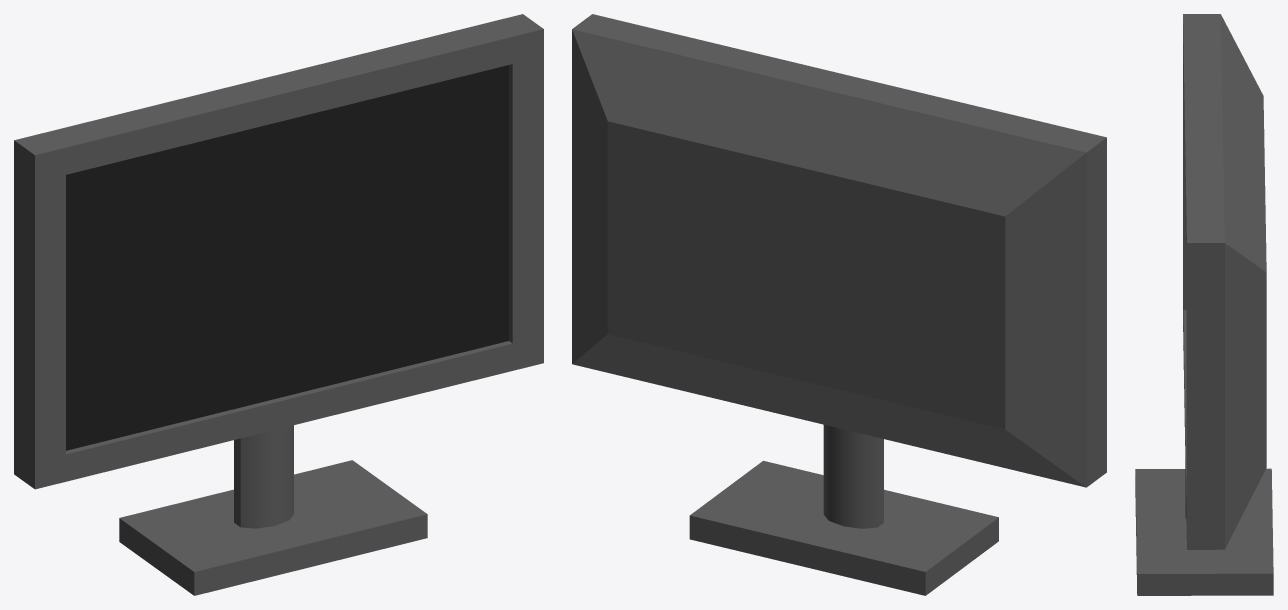
Rendered from Monitor.fbx.
The picture shows the model from 3 angles, left to right: view 1: azimuth 30°, elevation 25°; view 2: azimuth 150°, elevation 25°; view 3: azimuth 270°, elevation 25°; orthographic projection. The views are drawn at different scales.
Visible parts, largest first — view 1: Monitor; view 2: Monitor; view 3: Monitor.
Boxes of the visible parts, box(x1,y1,x2,y2) form: Monitor: box(14, 14, 543, 595); Monitor: box(572, 14, 1106, 595); Monitor: box(1135, 14, 1273, 595).
Bounding box in the file's own units: 0.7971 × 0.6768 × 0.2033.
